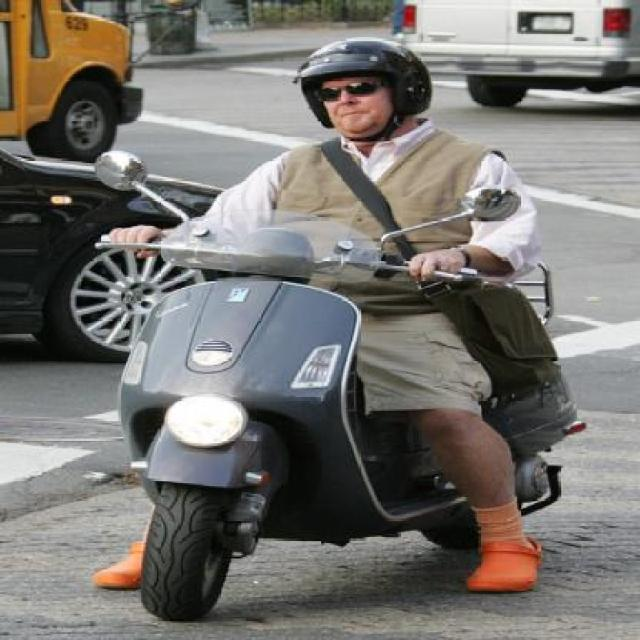helmet: (277, 28, 431, 150)
motorcycle: (64, 22, 610, 622)
